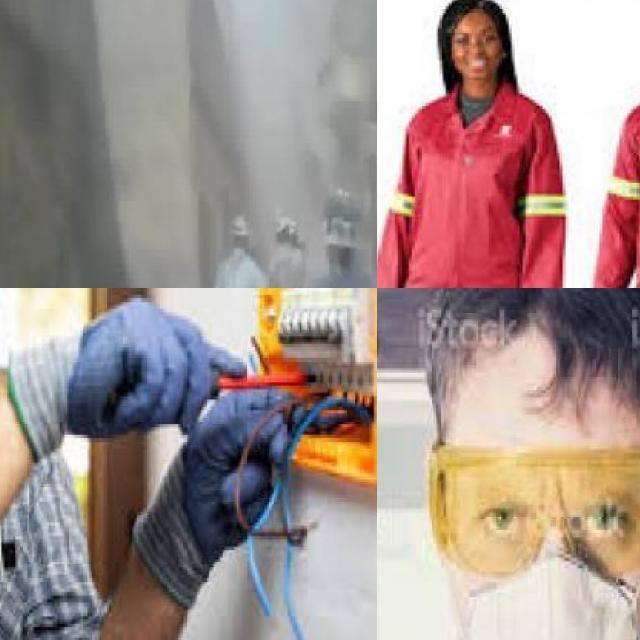apron: (13, 288, 221, 426), (135, 396, 292, 574)
